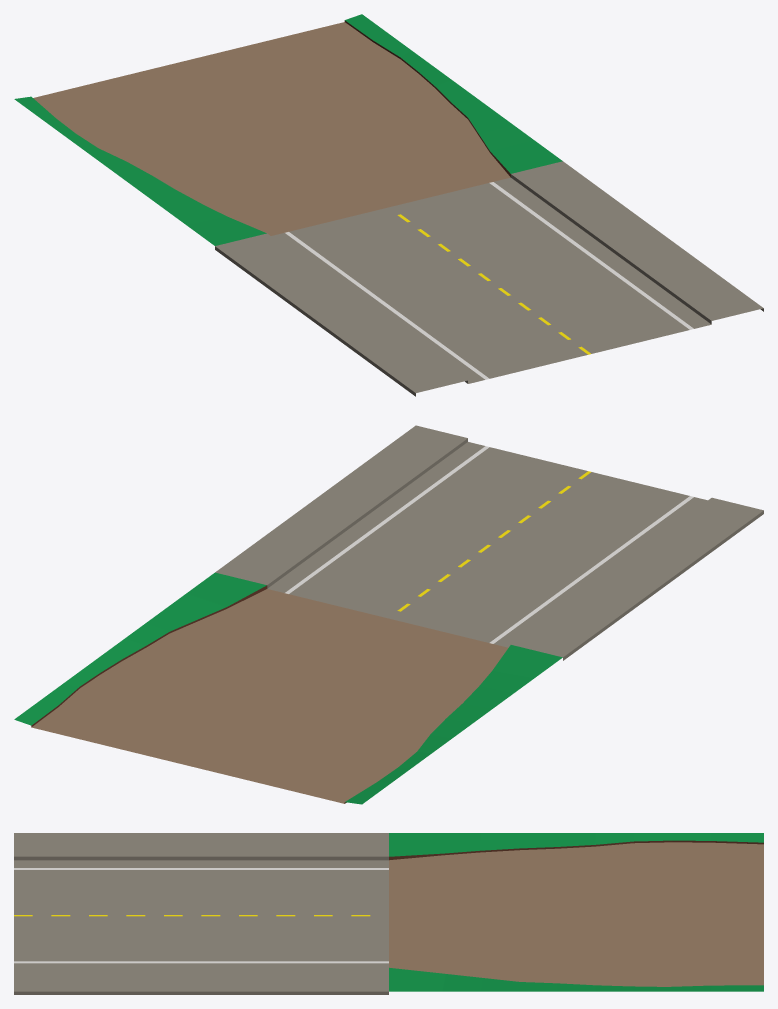
File: Gravel_Asphalt.fbx
3 views of the same model, one above another, from view 1: azimuth 30°, elevation 25°; view 2: azimuth 150°, elevation 25°; view 3: azimuth 270°, elevation 25° (orthographic). The views are drawn at different scales.
Visible parts, largest first — view 1: Plane.001; view 2: Plane.001; view 3: Plane.001.
Part boxes in pixels (x1=…): Plane.001: x1=14, y1=14, x2=763, y2=396; Plane.001: x1=14, y1=425, x2=763, y2=804; Plane.001: x1=14, y1=833, x2=763, y2=994.
Bounding box in the file's own units: 20 × 0.2 × 40.
